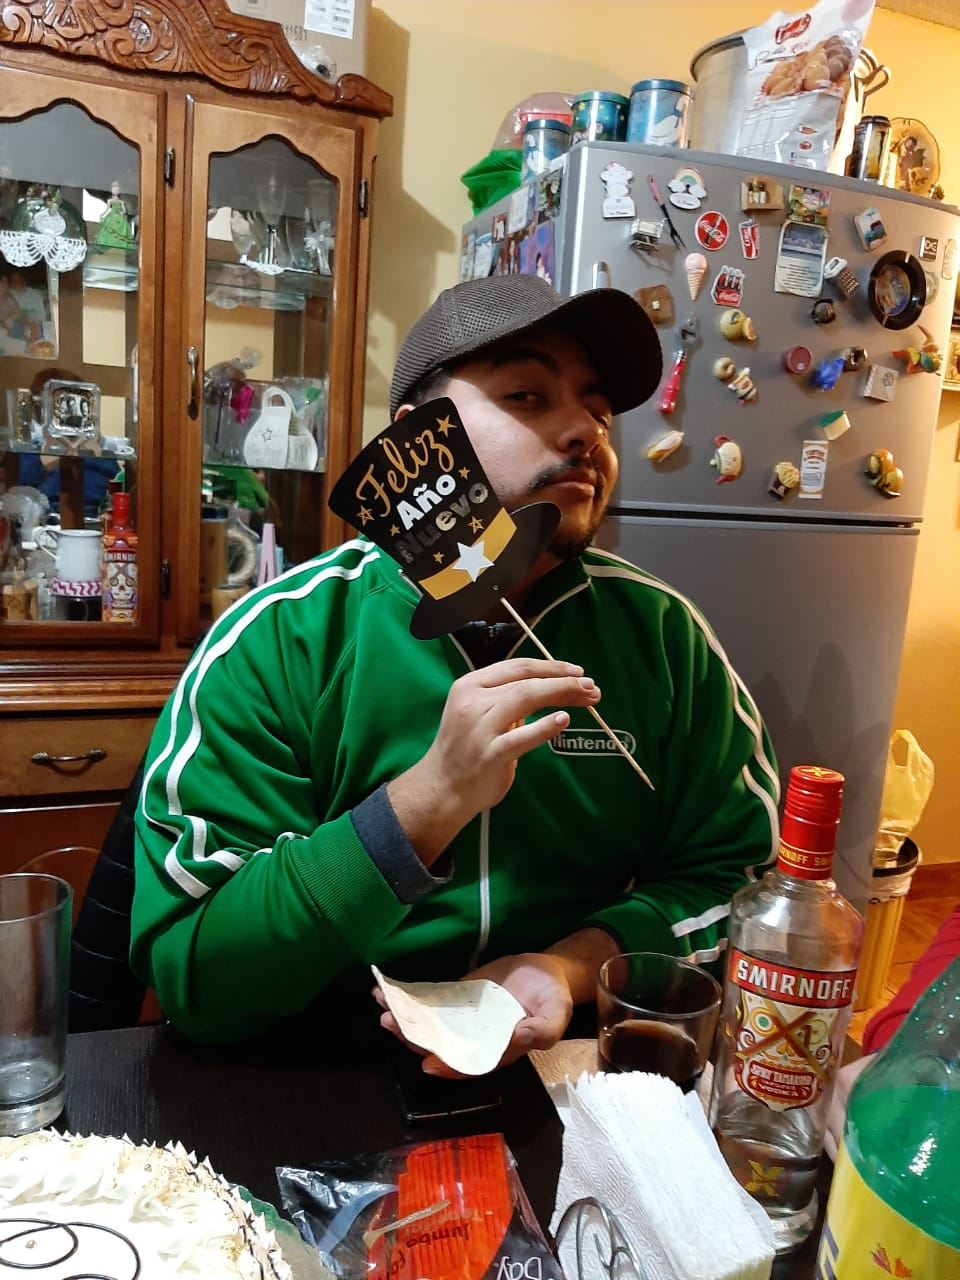Yoshi: (306, 295, 682, 699)
